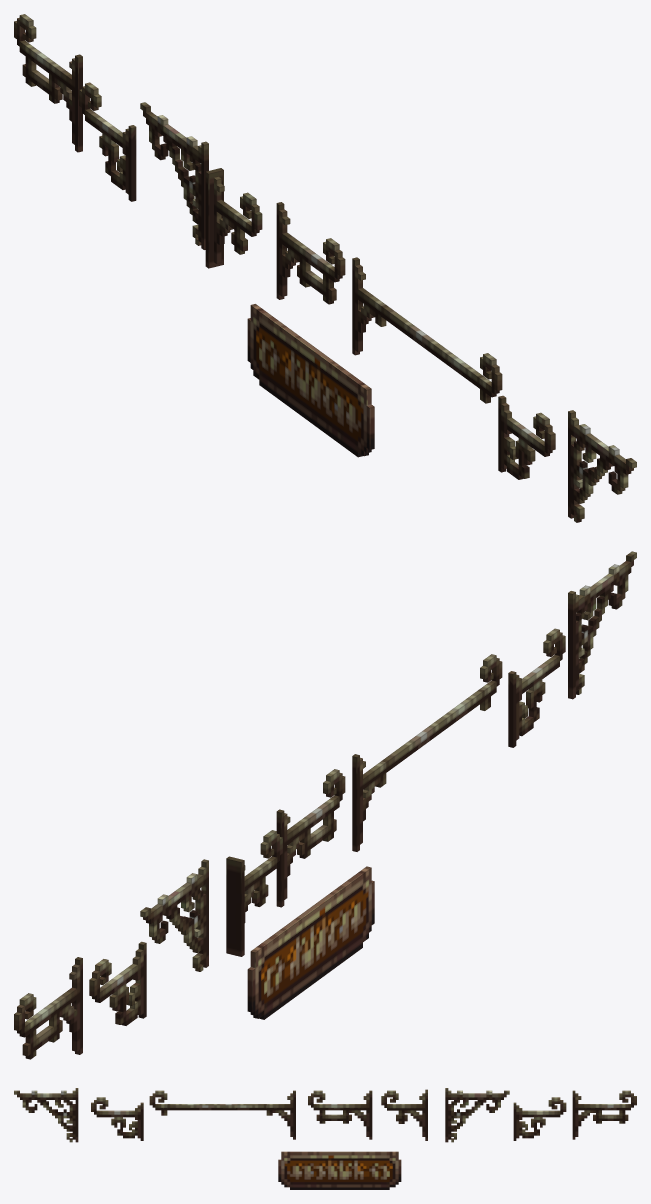
Rendered from ObjMD_Signboard_Shop_Tresa_A.FBX.
The picture shows the model from 3 angles, top to bottom: view 1: azimuth 30°, elevation 25°; view 2: azimuth 150°, elevation 25°; view 3: azimuth 270°, elevation 25°; orthographic projection. The views are drawn at different scales.
Parts seen in each view (by area): view 1: ObjMD_Signboard_Shop_Tresa_A, ObjMD_Signboard_Connect_Long_A_right, ObjMD_Signboard_Wall_Detail_A_right, ObjMD_Signboard_Wall_Detail_A_left, ObjMD_Signboard_Connect_A_right, ObjMD_Signboard_Connect_A_left, ObjMD_Signboard_Connect_A_front, ObjMD_Signboard_Connect_C_left, ObjMD_Signboard_Connect_C_right; view 2: ObjMD_Signboard_Shop_Tresa_A, ObjMD_Signboard_Connect_Long_A_right, ObjMD_Signboard_Wall_Detail_A_right, ObjMD_Signboard_Wall_Detail_A_left, ObjMD_Signboard_Connect_A_left, ObjMD_Signboard_Connect_A_front, ObjMD_Signboard_Connect_A_right, ObjMD_Signboard_Connect_C_right, ObjMD_Signboard_Connect_C_left; view 3: ObjMD_Signboard_Shop_Tresa_A, ObjMD_Signboard_Connect_Long_A_right, ObjMD_Signboard_Wall_Detail_A_right, ObjMD_Signboard_Wall_Detail_A_left, ObjMD_Signboard_Connect_A_right, ObjMD_Signboard_Connect_A_left, ObjMD_Signboard_Connect_C_left, ObjMD_Signboard_Connect_C_right, ObjMD_Signboard_Connect_A_front.
Boxes of the visible parts, x1,y1,x2,y2 form: ObjMD_Signboard_Shop_Tresa_A: (247,304,374,457); ObjMD_Signboard_Connect_Long_A_right: (352,257,502,403); ObjMD_Signboard_Wall_Detail_A_right: (568,410,636,522); ObjMD_Signboard_Wall_Detail_A_left: (140,102,208,249); ObjMD_Signboard_Connect_A_right: (276,202,345,304); ObjMD_Signboard_Connect_A_left: (14,14,82,152); ObjMD_Signboard_Connect_A_front: (205,168,262,268); ObjMD_Signboard_Connect_C_left: (79,82,136,201); ObjMD_Signboard_Connect_C_right: (498,395,555,479); ObjMD_Signboard_Shop_Tresa_A: (247,866,374,1019); ObjMD_Signboard_Connect_Long_A_right: (352,654,502,851); ObjMD_Signboard_Wall_Detail_A_right: (568,551,636,699); ObjMD_Signboard_Wall_Detail_A_left: (140,859,208,971); ObjMD_Signboard_Connect_A_left: (14,957,82,1059); ObjMD_Signboard_Connect_A_front: (226,830,282,956); ObjMD_Signboard_Connect_A_right: (276,769,345,907); ObjMD_Signboard_Connect_C_right: (508,628,565,747); ObjMD_Signboard_Connect_C_left: (89,941,146,1025); ObjMD_Signboard_Shop_Tresa_A: (278,1151,401,1189); ObjMD_Signboard_Connect_Long_A_right: (149,1090,295,1139); ObjMD_Signboard_Wall_Detail_A_right: (14,1088,78,1142); ObjMD_Signboard_Wall_Detail_A_left: (445,1088,509,1142); ObjMD_Signboard_Connect_A_right: (308,1090,372,1139); ObjMD_Signboard_Connect_A_left: (572,1090,636,1139); ObjMD_Signboard_Connect_C_left: (513,1097,566,1140); ObjMD_Signboard_Connect_C_right: (91,1097,143,1140); ObjMD_Signboard_Connect_A_front: (381,1089,427,1140).
Size of the model in its own units: 25.5 by 237 by 1329.
